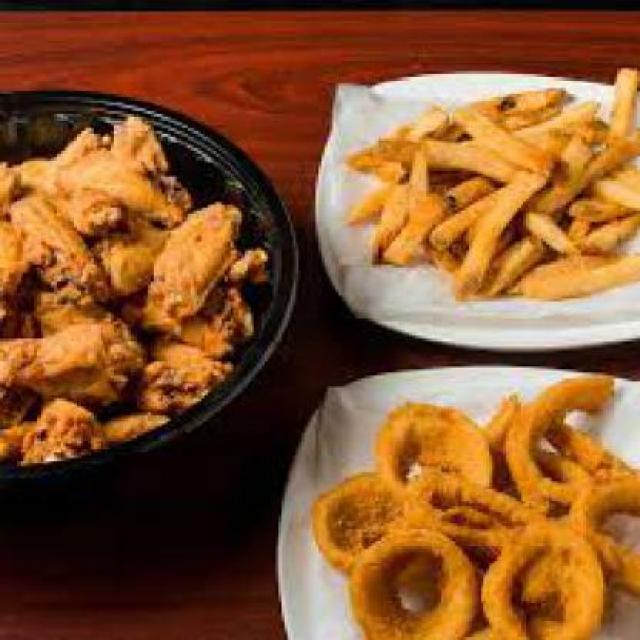french fries: (345, 57, 637, 325)
onion rings: (310, 365, 638, 637)
